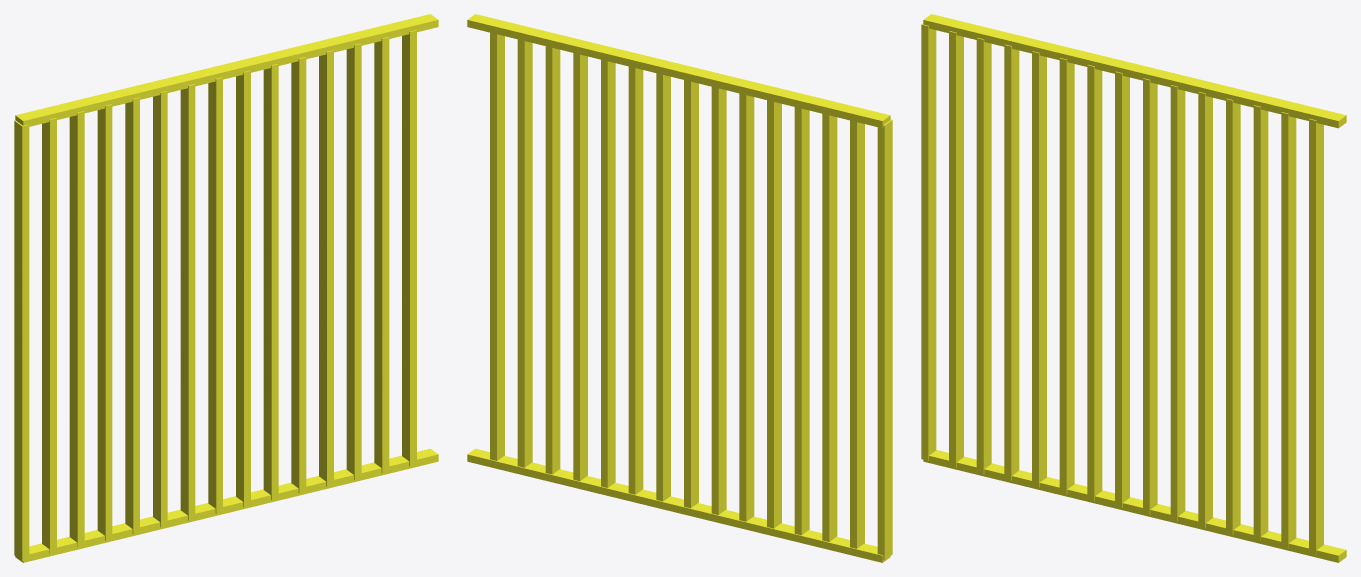
File: reja.obj
The picture shows the model from 3 angles, left to right: view 1: azimuth 30°, elevation 25°; view 2: azimuth 150°, elevation 25°; view 3: azimuth 330°, elevation 25°; orthographic projection.
Visible parts, largest first — view 1: BoxUp001; view 2: BoxUp001; view 3: BoxUp001.
Part boxes in pixels (x1,y1,x2,y2): BoxUp001: (14,14,438,562); BoxUp001: (467,14,892,562); BoxUp001: (921,14,1346,562).
Bounding box in the file's own units: 30.1 × 30.5 × 1.07.
Materials: 1 (1 with a texture image).
